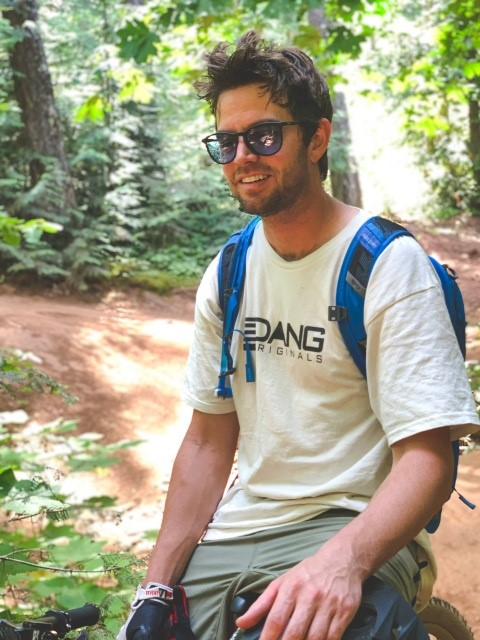face_no_mask: (207, 66, 339, 214)
